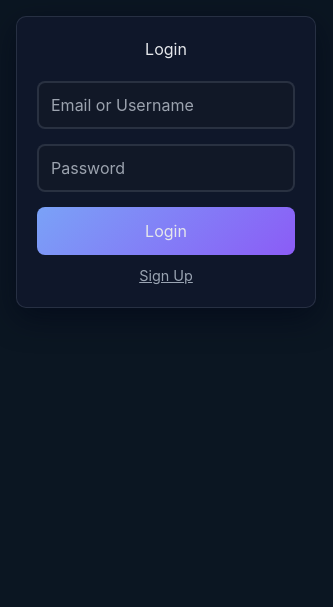
Test: Profile Component › Signup View › checks email availability on input
The width and height of the screenshot is (333, 607).
Click the button with test id "switch-to-signup": (166, 271) [37,255,295,287]
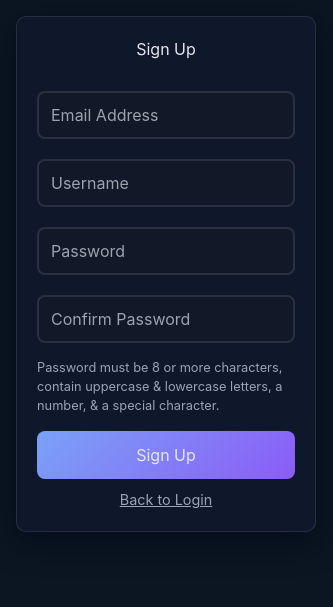
In the field with test id "signup-email-input": (166, 115) [37,91,295,139], type "taken@example.com"
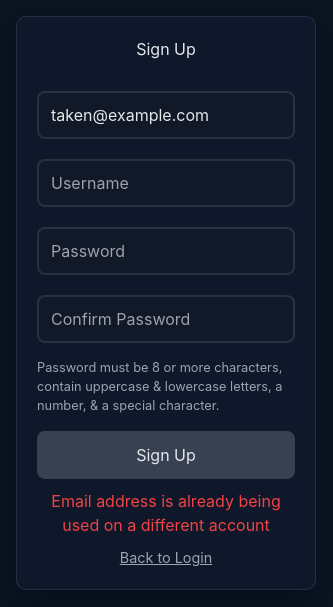
Expected: the text "Email address is already being used on a different account" is shown, [37,489,295,537]
